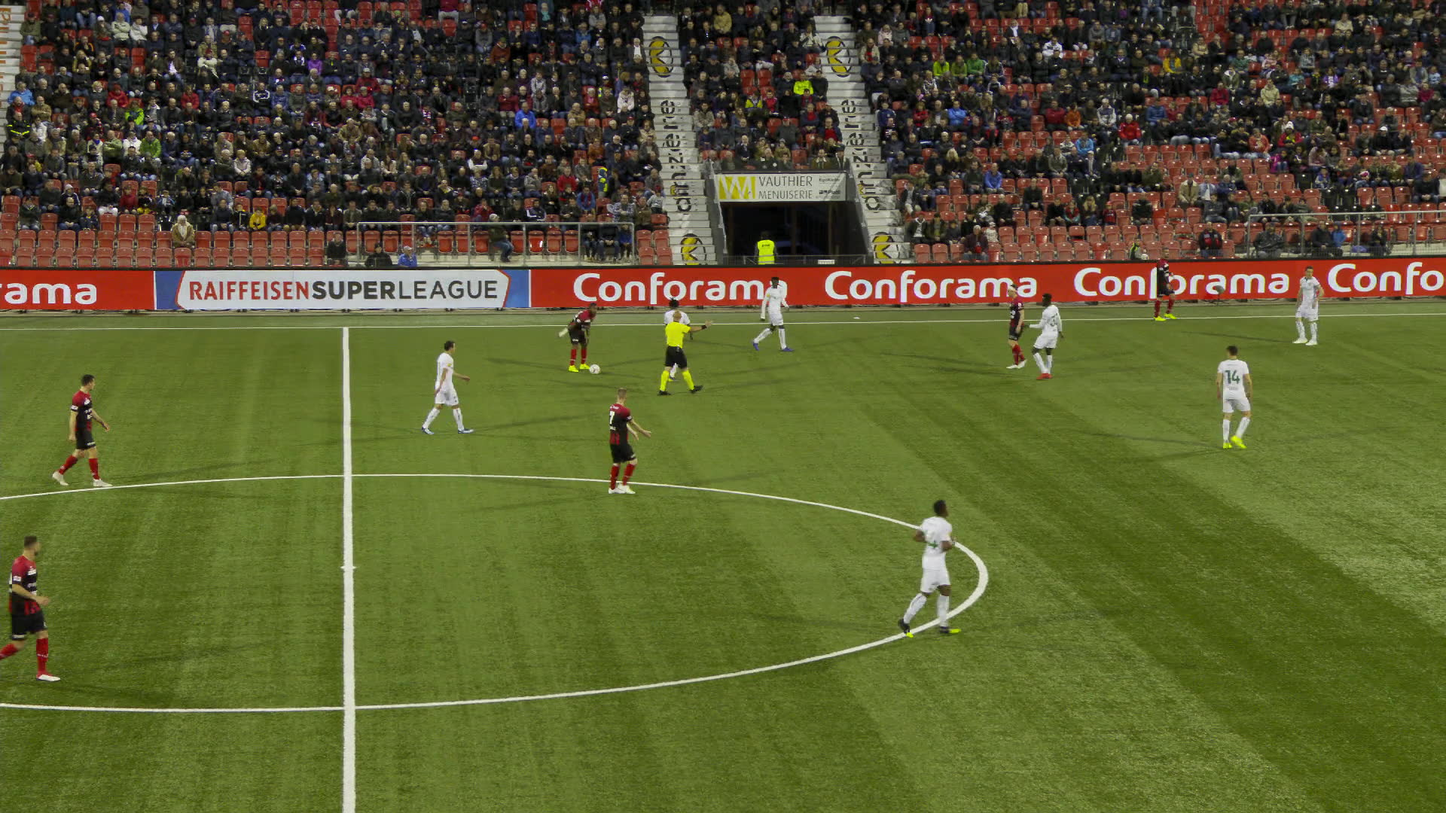ball: (590, 364, 599, 373)
player: (893, 504, 957, 638), (5, 531, 58, 679), (56, 371, 107, 486), (596, 390, 649, 495), (1210, 346, 1256, 449), (1014, 295, 1062, 381), (425, 340, 463, 434), (1281, 266, 1323, 345), (995, 286, 1030, 369), (651, 299, 685, 379), (755, 275, 789, 350), (559, 304, 596, 371), (1147, 247, 1177, 321)
referee: (655, 309, 708, 395)
